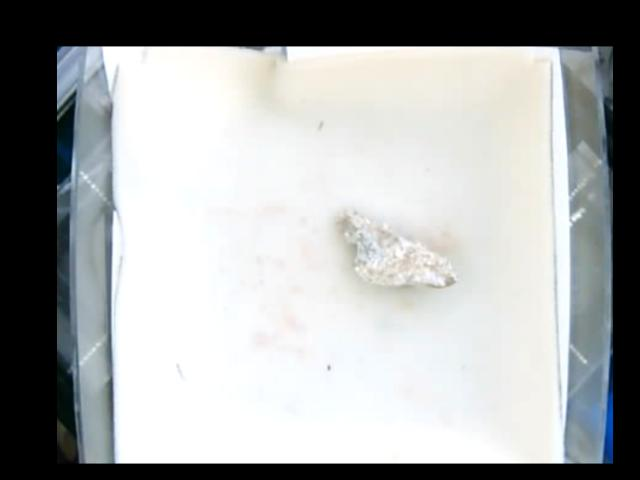Brisk: (339, 208, 461, 293)
